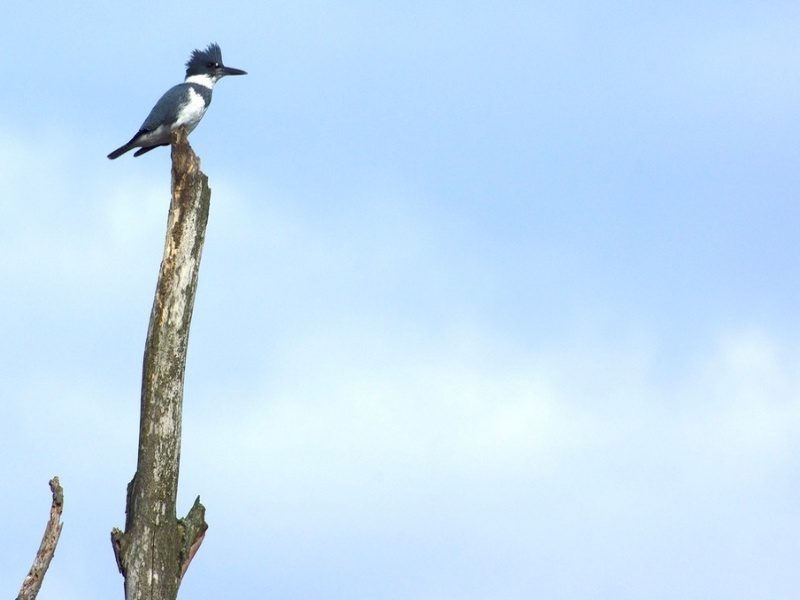kingfisher: (107, 39, 250, 163)
